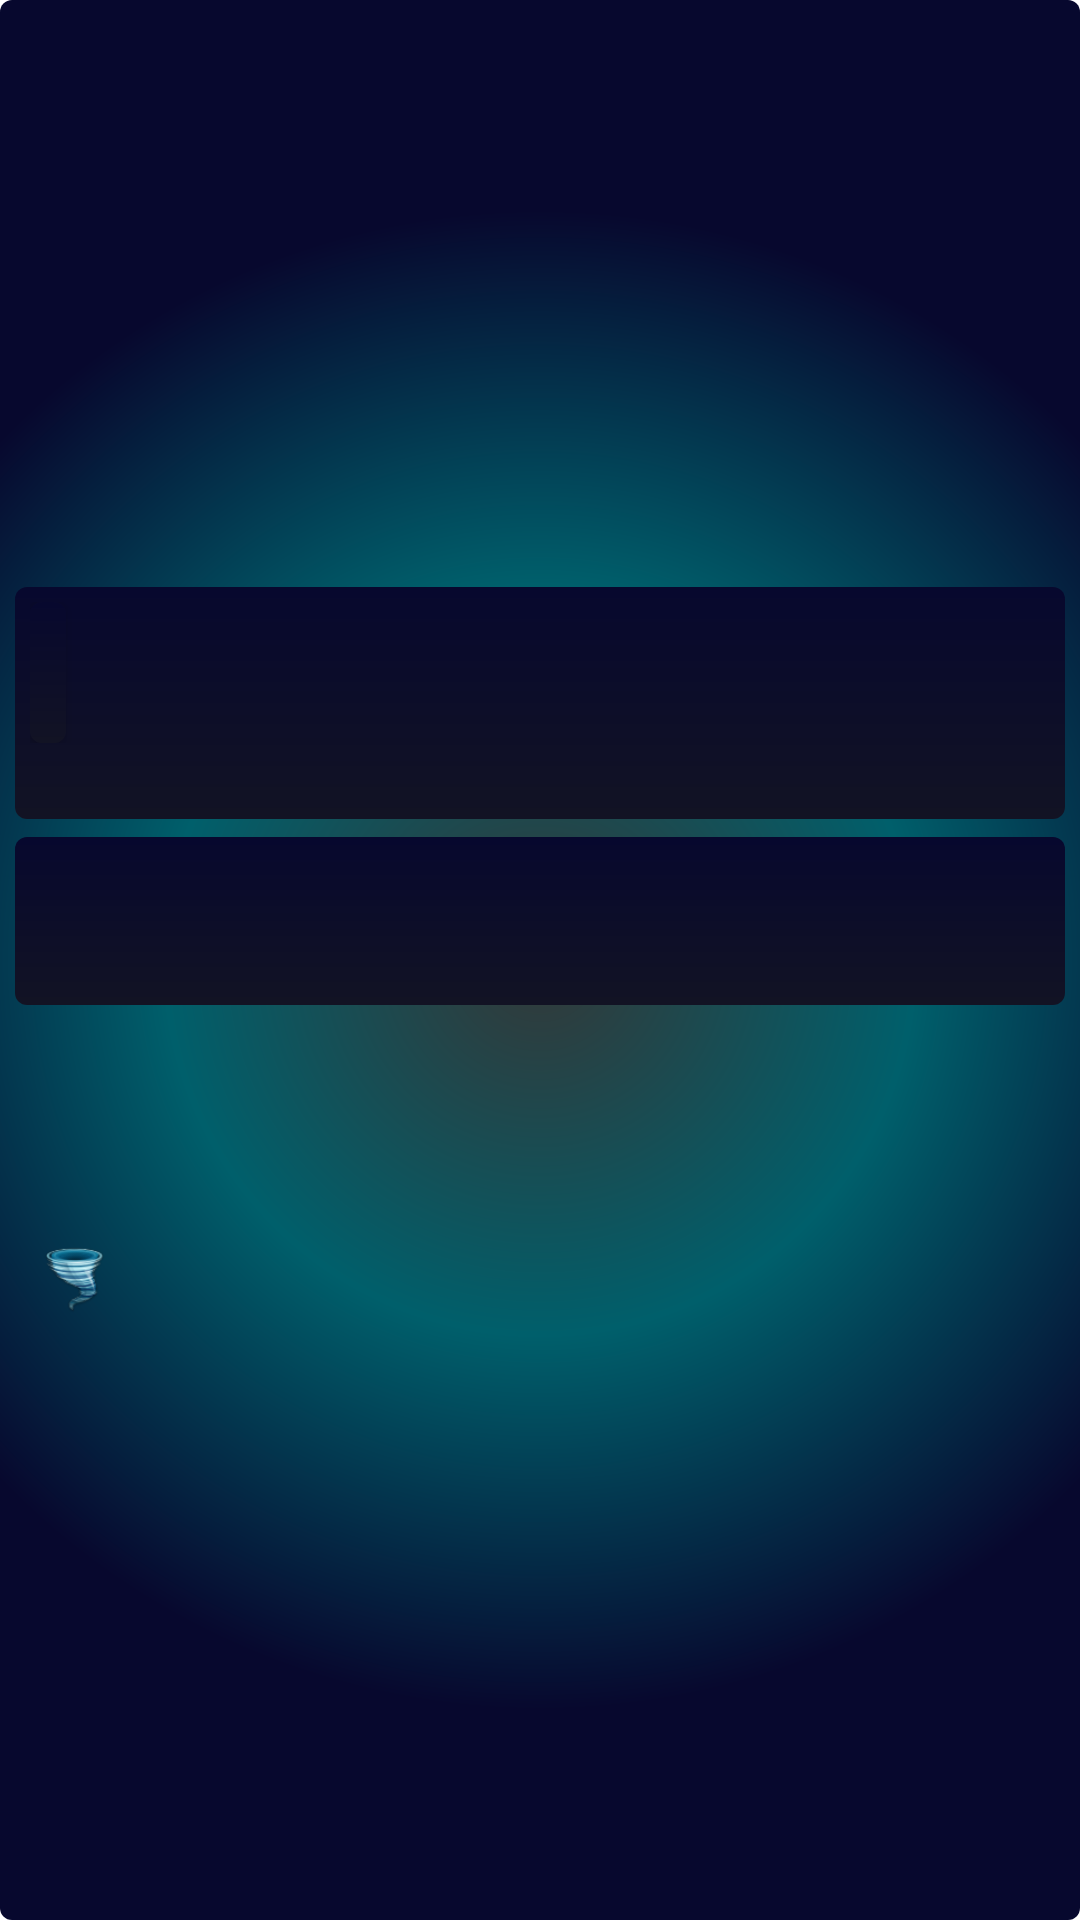

Named icons in this screenshot (1080 × 1920) and their centers, (x=x, y=y):
Wind: (x=74, y=1279)
